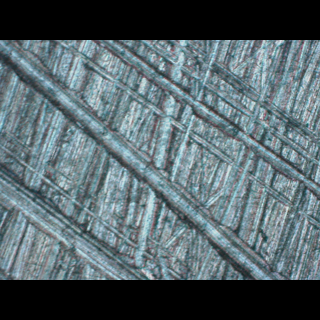d: (5, 40, 320, 274)
